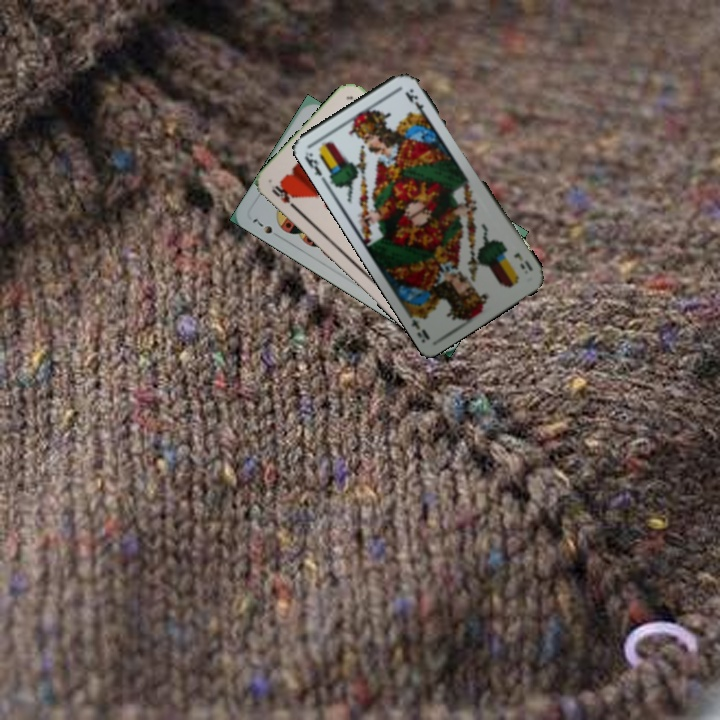EK: (300, 148, 324, 179), (509, 249, 535, 274)
HO: (268, 181, 300, 212)
S7: (248, 214, 275, 237)
